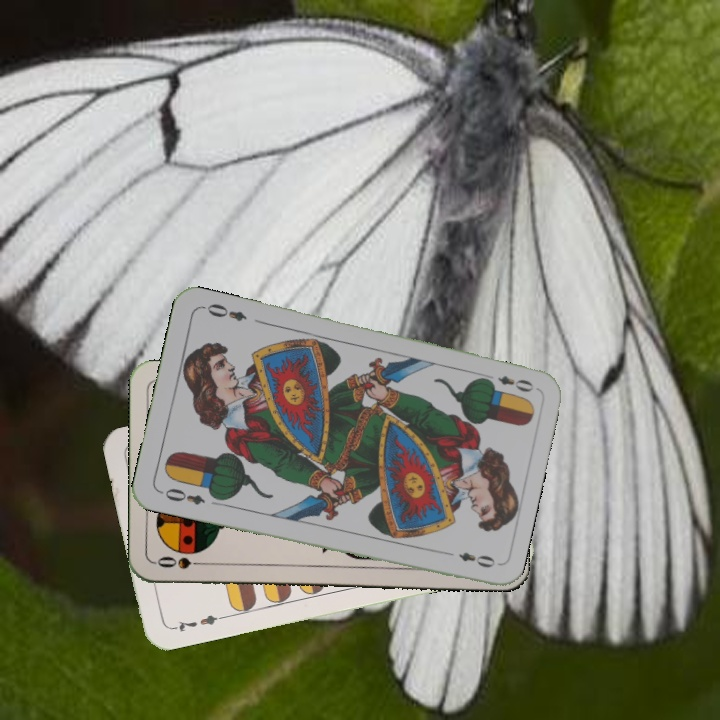E7: (167, 611, 226, 635)
EO: (479, 371, 536, 395), (156, 484, 208, 508)
SO: (153, 553, 212, 571)
